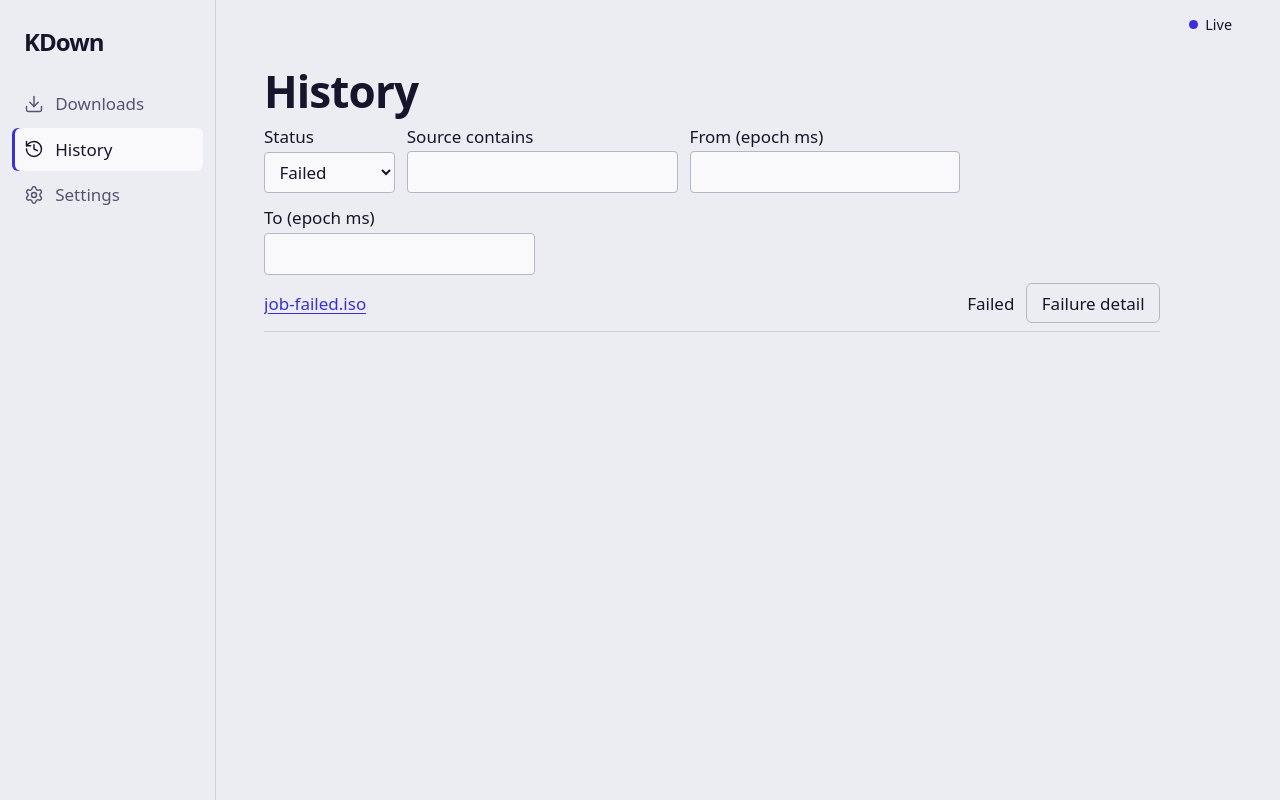
it: HistoryPage › shows durable error summaries for failed jobs
Check: the link "job-failed.iso" is shown, box [264,290,366,316]
Click the button "Failure detail": (1093,303) [1026,283,1160,323]
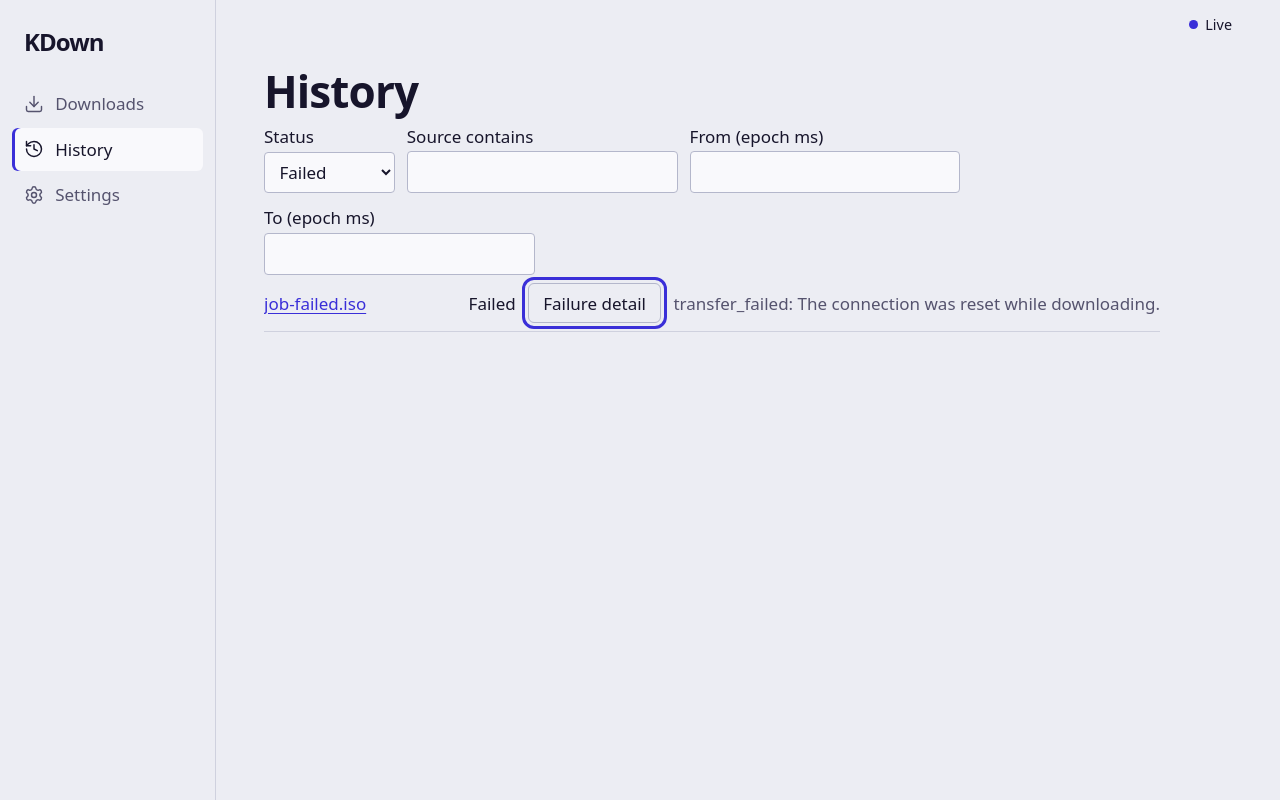
Check: the text "transfer_failed: The connection was reset while downloading." is shown, box [673,290,1160,316]
